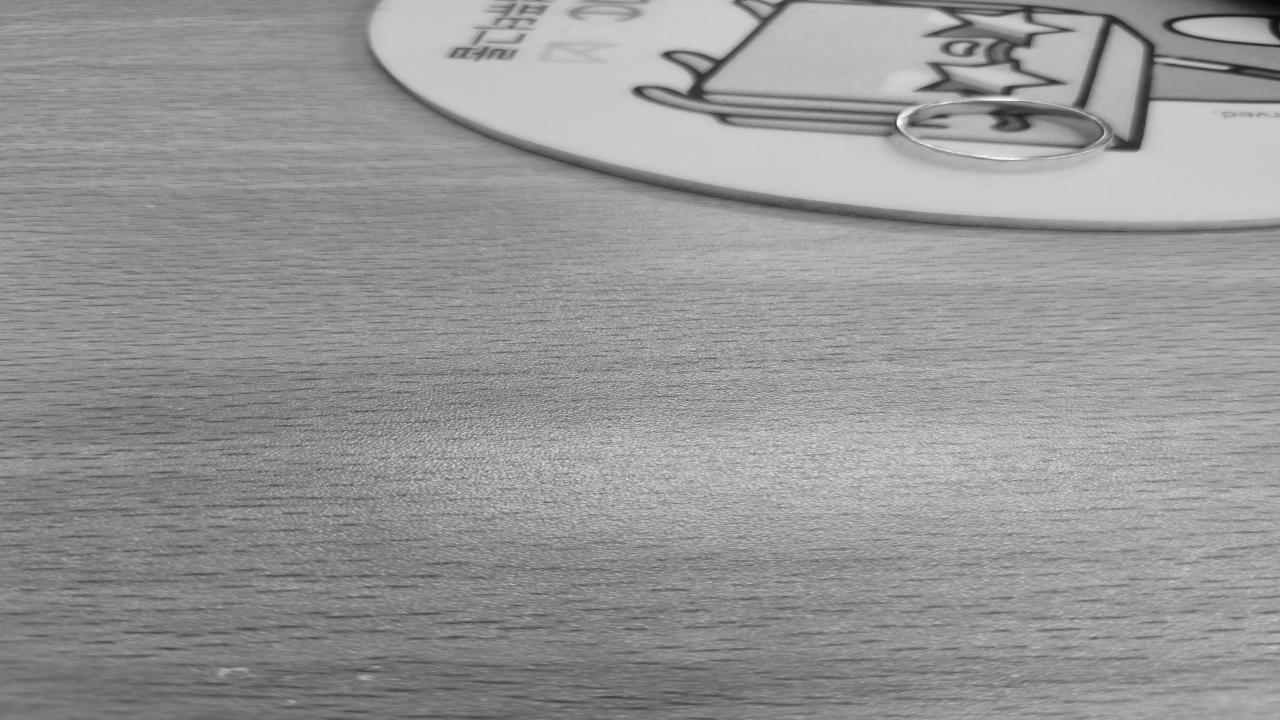ring: (895, 98, 1115, 174)
